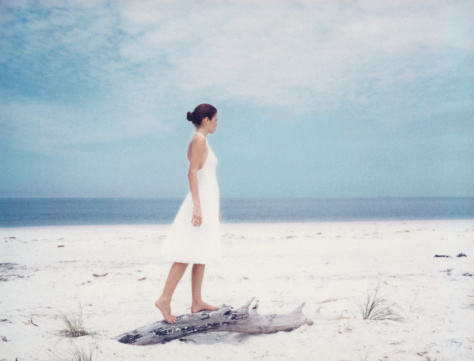em pe: (154, 85, 222, 338)
